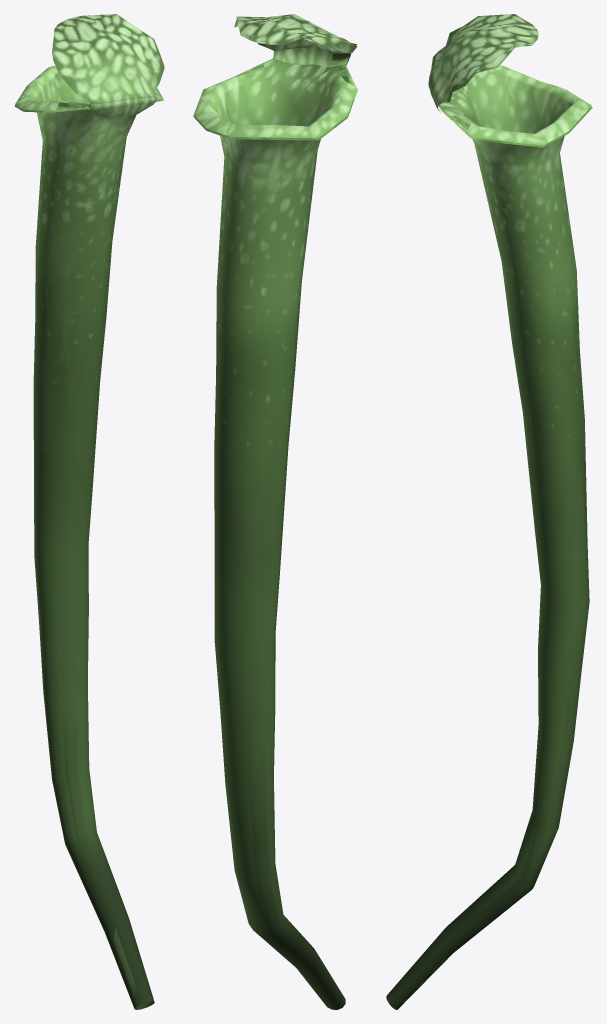
Rendered from Trumpet1.fbx.
3 views of the same model, side by side, from view 1: azimuth 30°, elevation 25°; view 2: azimuth 150°, elevation 25°; view 3: azimuth 270°, elevation 25° (orthographic). The views are drawn at different scales.
Parts seen in each view (by area): view 1: TrumpetPlant1; view 2: TrumpetPlant1; view 3: TrumpetPlant1.
Part boxes in pixels (<box>): TrumpetPlant1: <box>14,14,164,1009</box>; TrumpetPlant1: <box>193,14,357,1009</box>; TrumpetPlant1: <box>386,14,592,1009</box>.
Bounding box in the file's own units: 11.47 × 78.23 × 14.92.
